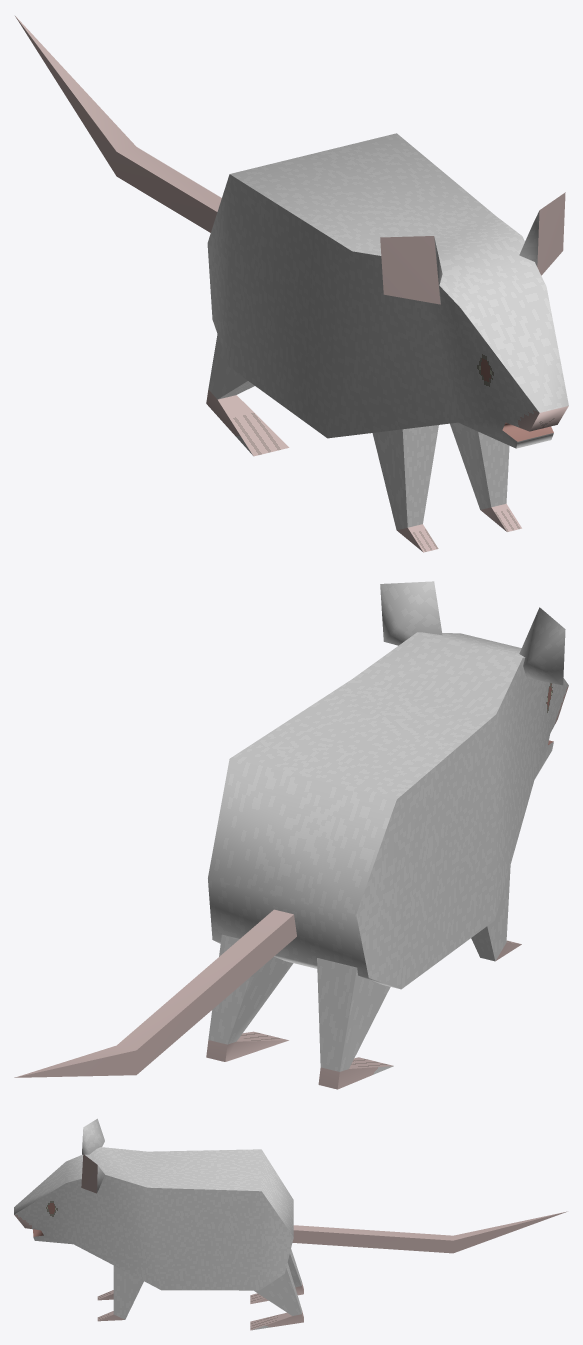
File: 01fe_Mouse.glb
The picture shows the model from 3 angles, top to bottom: view 1: azimuth 30°, elevation 25°; view 2: azimuth 150°, elevation 25°; view 3: azimuth 270°, elevation 25°; orthographic projection. The views are drawn at different scales.
Visible parts, largest first — view 1: part_0; view 2: part_0; view 3: part_0.
Part boxes in pixels (bbox=[...]): part_0: bbox=[15, 16, 568, 552]; part_0: bbox=[14, 581, 568, 1089]; part_0: bbox=[14, 1118, 567, 1330].
Size of the model in its own units: 0.0228 by 0.0394 by 0.1152.
1 material, 1 textured.
